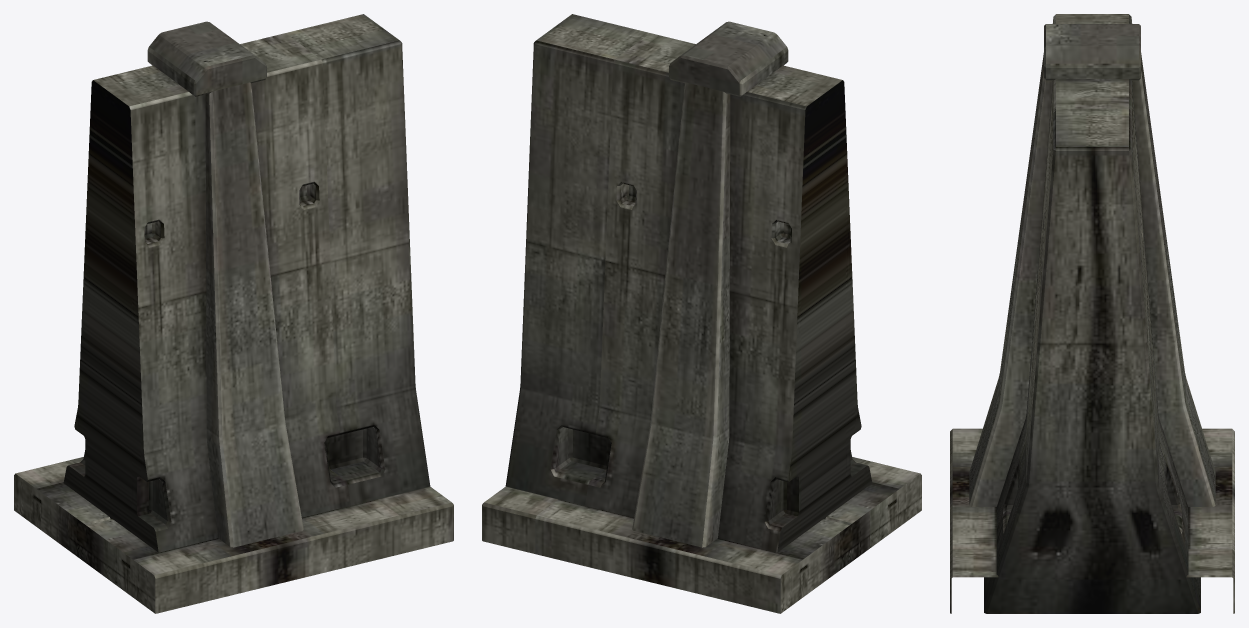
File: stone-wall-e.glb
3 views of the same model, side by side, from view 1: azimuth 30°, elevation 25°; view 2: azimuth 150°, elevation 25°; view 3: azimuth 270°, elevation 25° (orthographic).
Parts seen in each view (by area): view 1: body; view 2: body; view 3: body.
Boxes of the visible parts, x1,y1,x2,y2 form: body: (14, 14, 453, 613); body: (482, 14, 921, 613); body: (950, 14, 1234, 613).
Size of the model in its own units: 0.8466 by 1.32 by 0.6932.
1 material, 1 textured.
